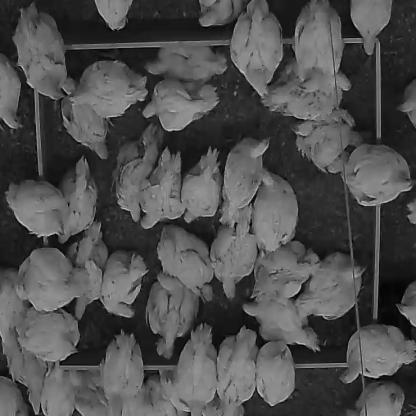chicken: (13, 3, 67, 100), (262, 60, 352, 118), (231, 0, 284, 98), (296, 252, 364, 322), (342, 143, 415, 207), (220, 134, 270, 226), (340, 325, 415, 386), (242, 297, 322, 354), (116, 128, 164, 223), (70, 60, 148, 118), (147, 273, 199, 359), (295, 1, 344, 92), (158, 225, 214, 303), (293, 110, 361, 174), (66, 222, 108, 321), (252, 170, 299, 254), (17, 249, 79, 312), (143, 81, 219, 132), (251, 241, 316, 300), (176, 324, 218, 415), (5, 180, 68, 240), (217, 327, 259, 415), (140, 147, 184, 230), (102, 331, 144, 415), (211, 224, 257, 300), (58, 159, 98, 245), (20, 306, 79, 364), (102, 253, 150, 319), (145, 45, 227, 83), (183, 147, 222, 224), (62, 97, 109, 160), (256, 341, 295, 408), (351, 1, 393, 57), (346, 378, 406, 415), (1, 55, 24, 130), (157, 371, 193, 415), (68, 371, 104, 415), (41, 370, 75, 415), (1, 273, 24, 335), (200, 1, 250, 29), (24, 353, 44, 415), (93, 1, 134, 31), (0, 334, 24, 383), (144, 380, 176, 415), (396, 279, 415, 329), (398, 78, 415, 129), (0, 379, 24, 415), (406, 200, 416, 227)
